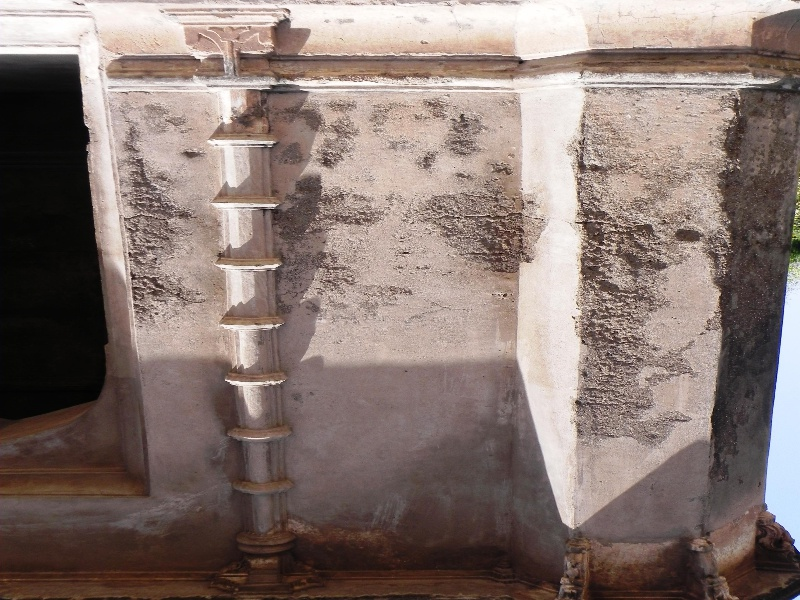Spalling: (568, 106, 732, 465), (113, 115, 202, 329), (414, 176, 557, 276)
